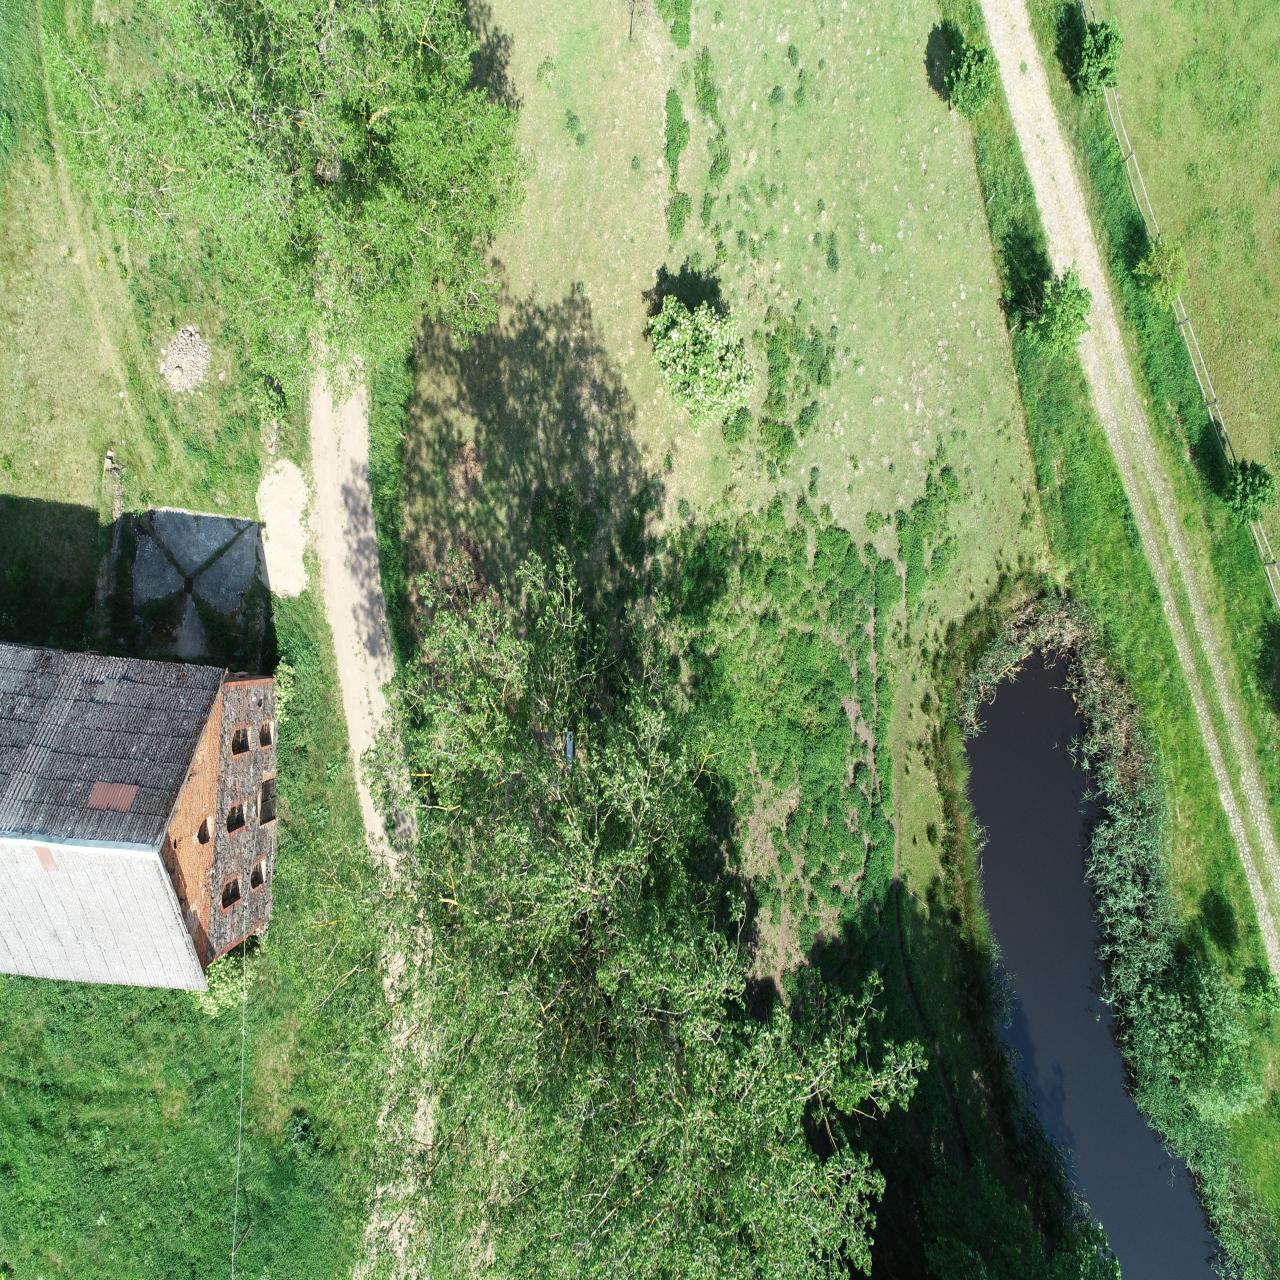cow: (1129, 996, 1157, 1047), (887, 46, 911, 103), (877, 120, 903, 171), (749, 293, 772, 349), (724, 522, 747, 580), (586, 1117, 615, 1160), (845, 219, 866, 278), (840, 462, 863, 517), (828, 537, 847, 598), (797, 267, 816, 332), (641, 539, 661, 598), (946, 7, 965, 63), (1054, 686, 1073, 740), (823, 1050, 843, 1101), (592, 1201, 622, 1233), (810, 113, 826, 171), (592, 138, 608, 197), (779, 389, 798, 436), (735, 674, 751, 727), (730, 777, 747, 830)
